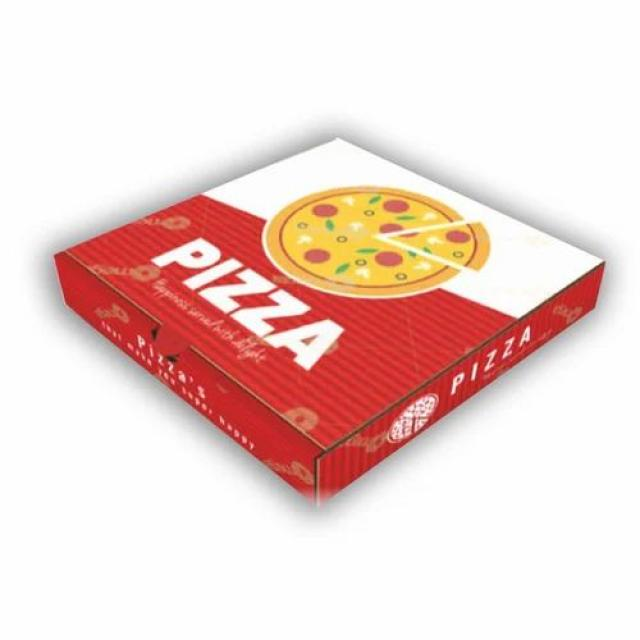cardboard_box: (63, 109, 613, 532)
